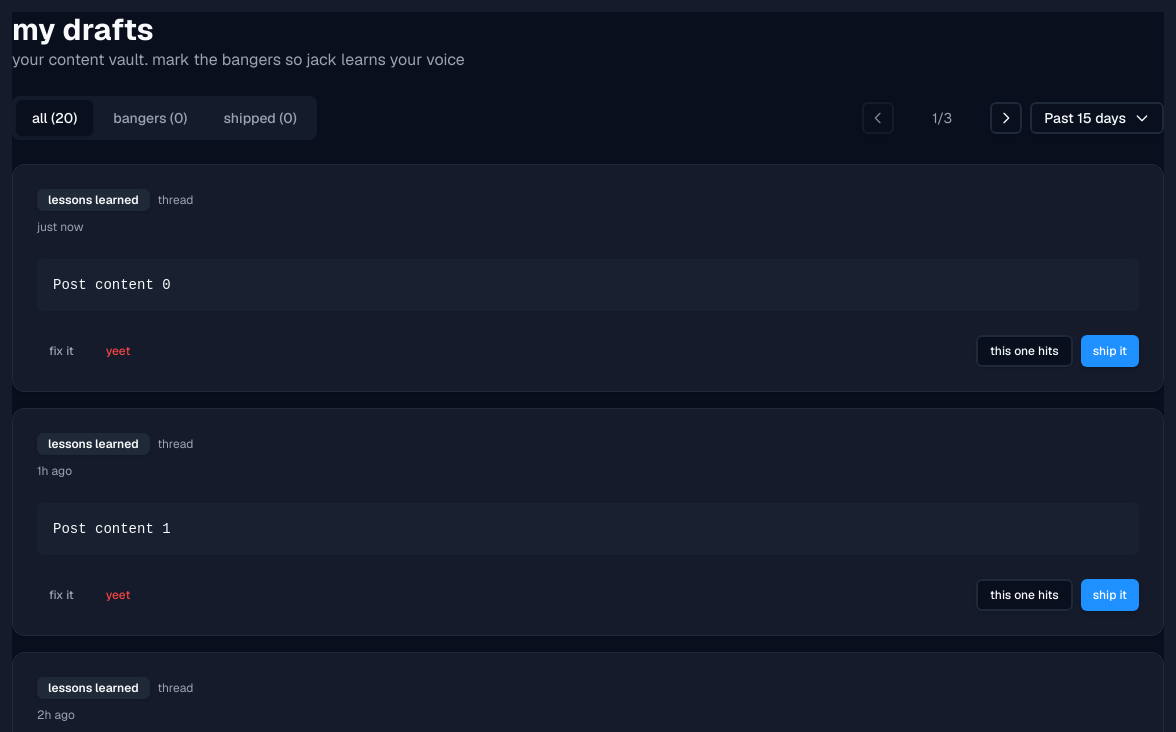
Test: Posts List - Pagination Integration › User Actions with Pagination › should maintain current page when marking post as good
Note: Navigate to page 2
Click the button named "Next page" at coordinates (1006, 118), box [990, 102, 1022, 134]
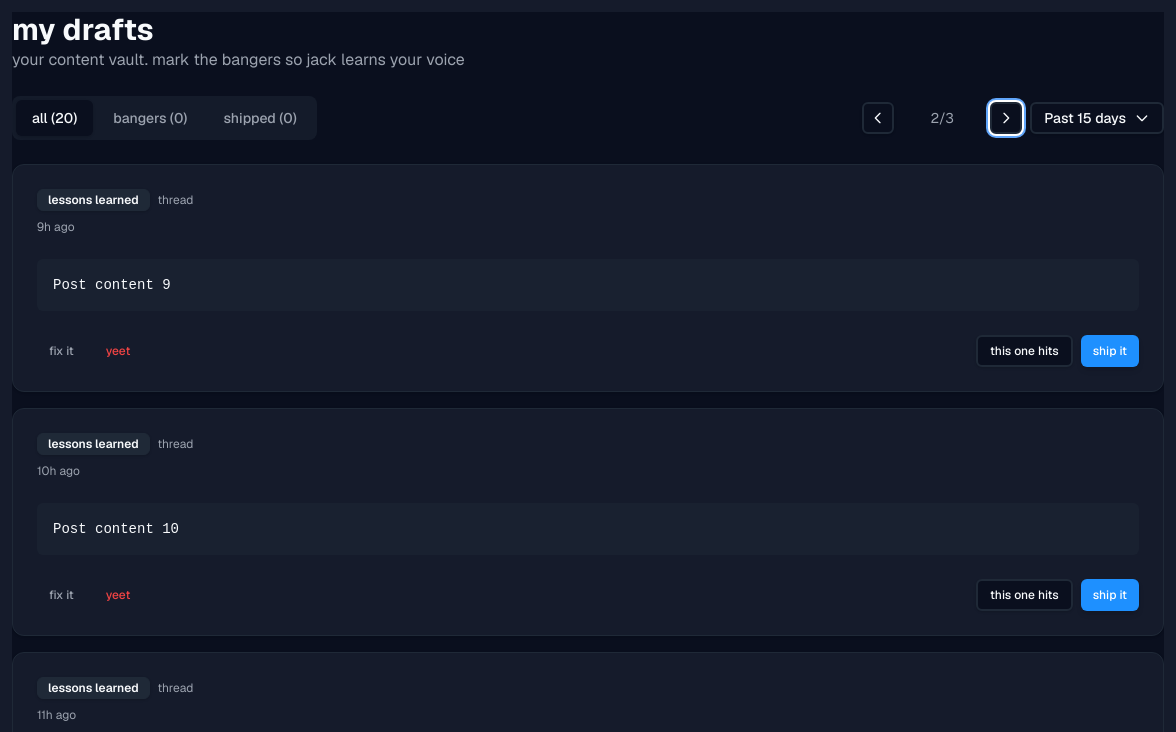
Expected: the text "2/3" is shown, [930, 109, 954, 127]
